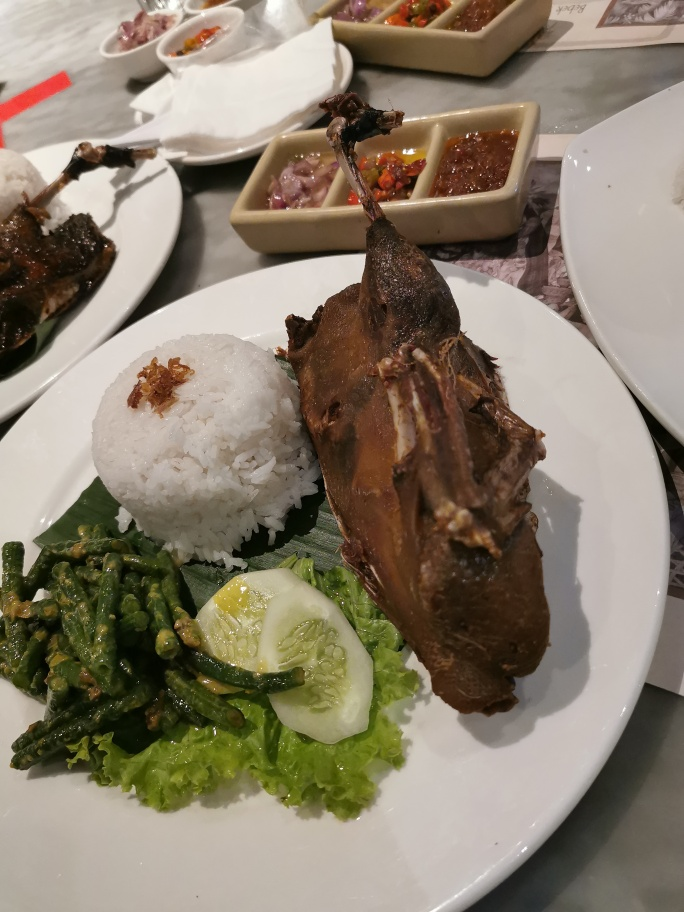bebek goreng: (265, 94, 550, 720)
nasi putih: (87, 327, 314, 563)
